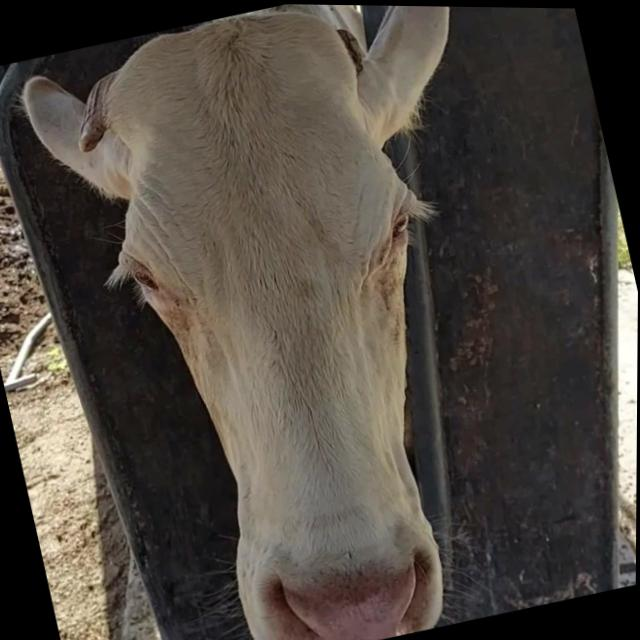cowFace: (71, 1, 502, 640)
